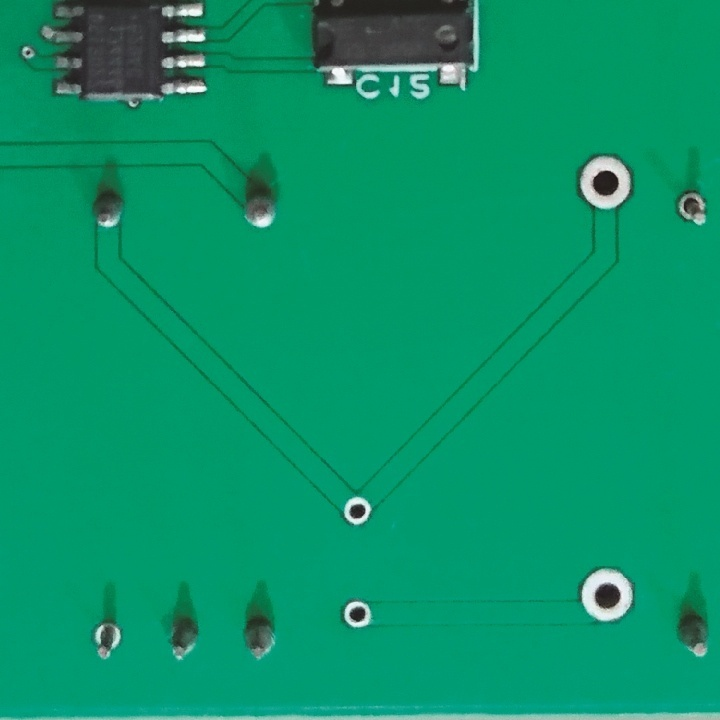F: (576, 563, 636, 629), (578, 153, 639, 211), (87, 617, 127, 666), (676, 187, 710, 235), (341, 491, 374, 527), (341, 595, 372, 632)
